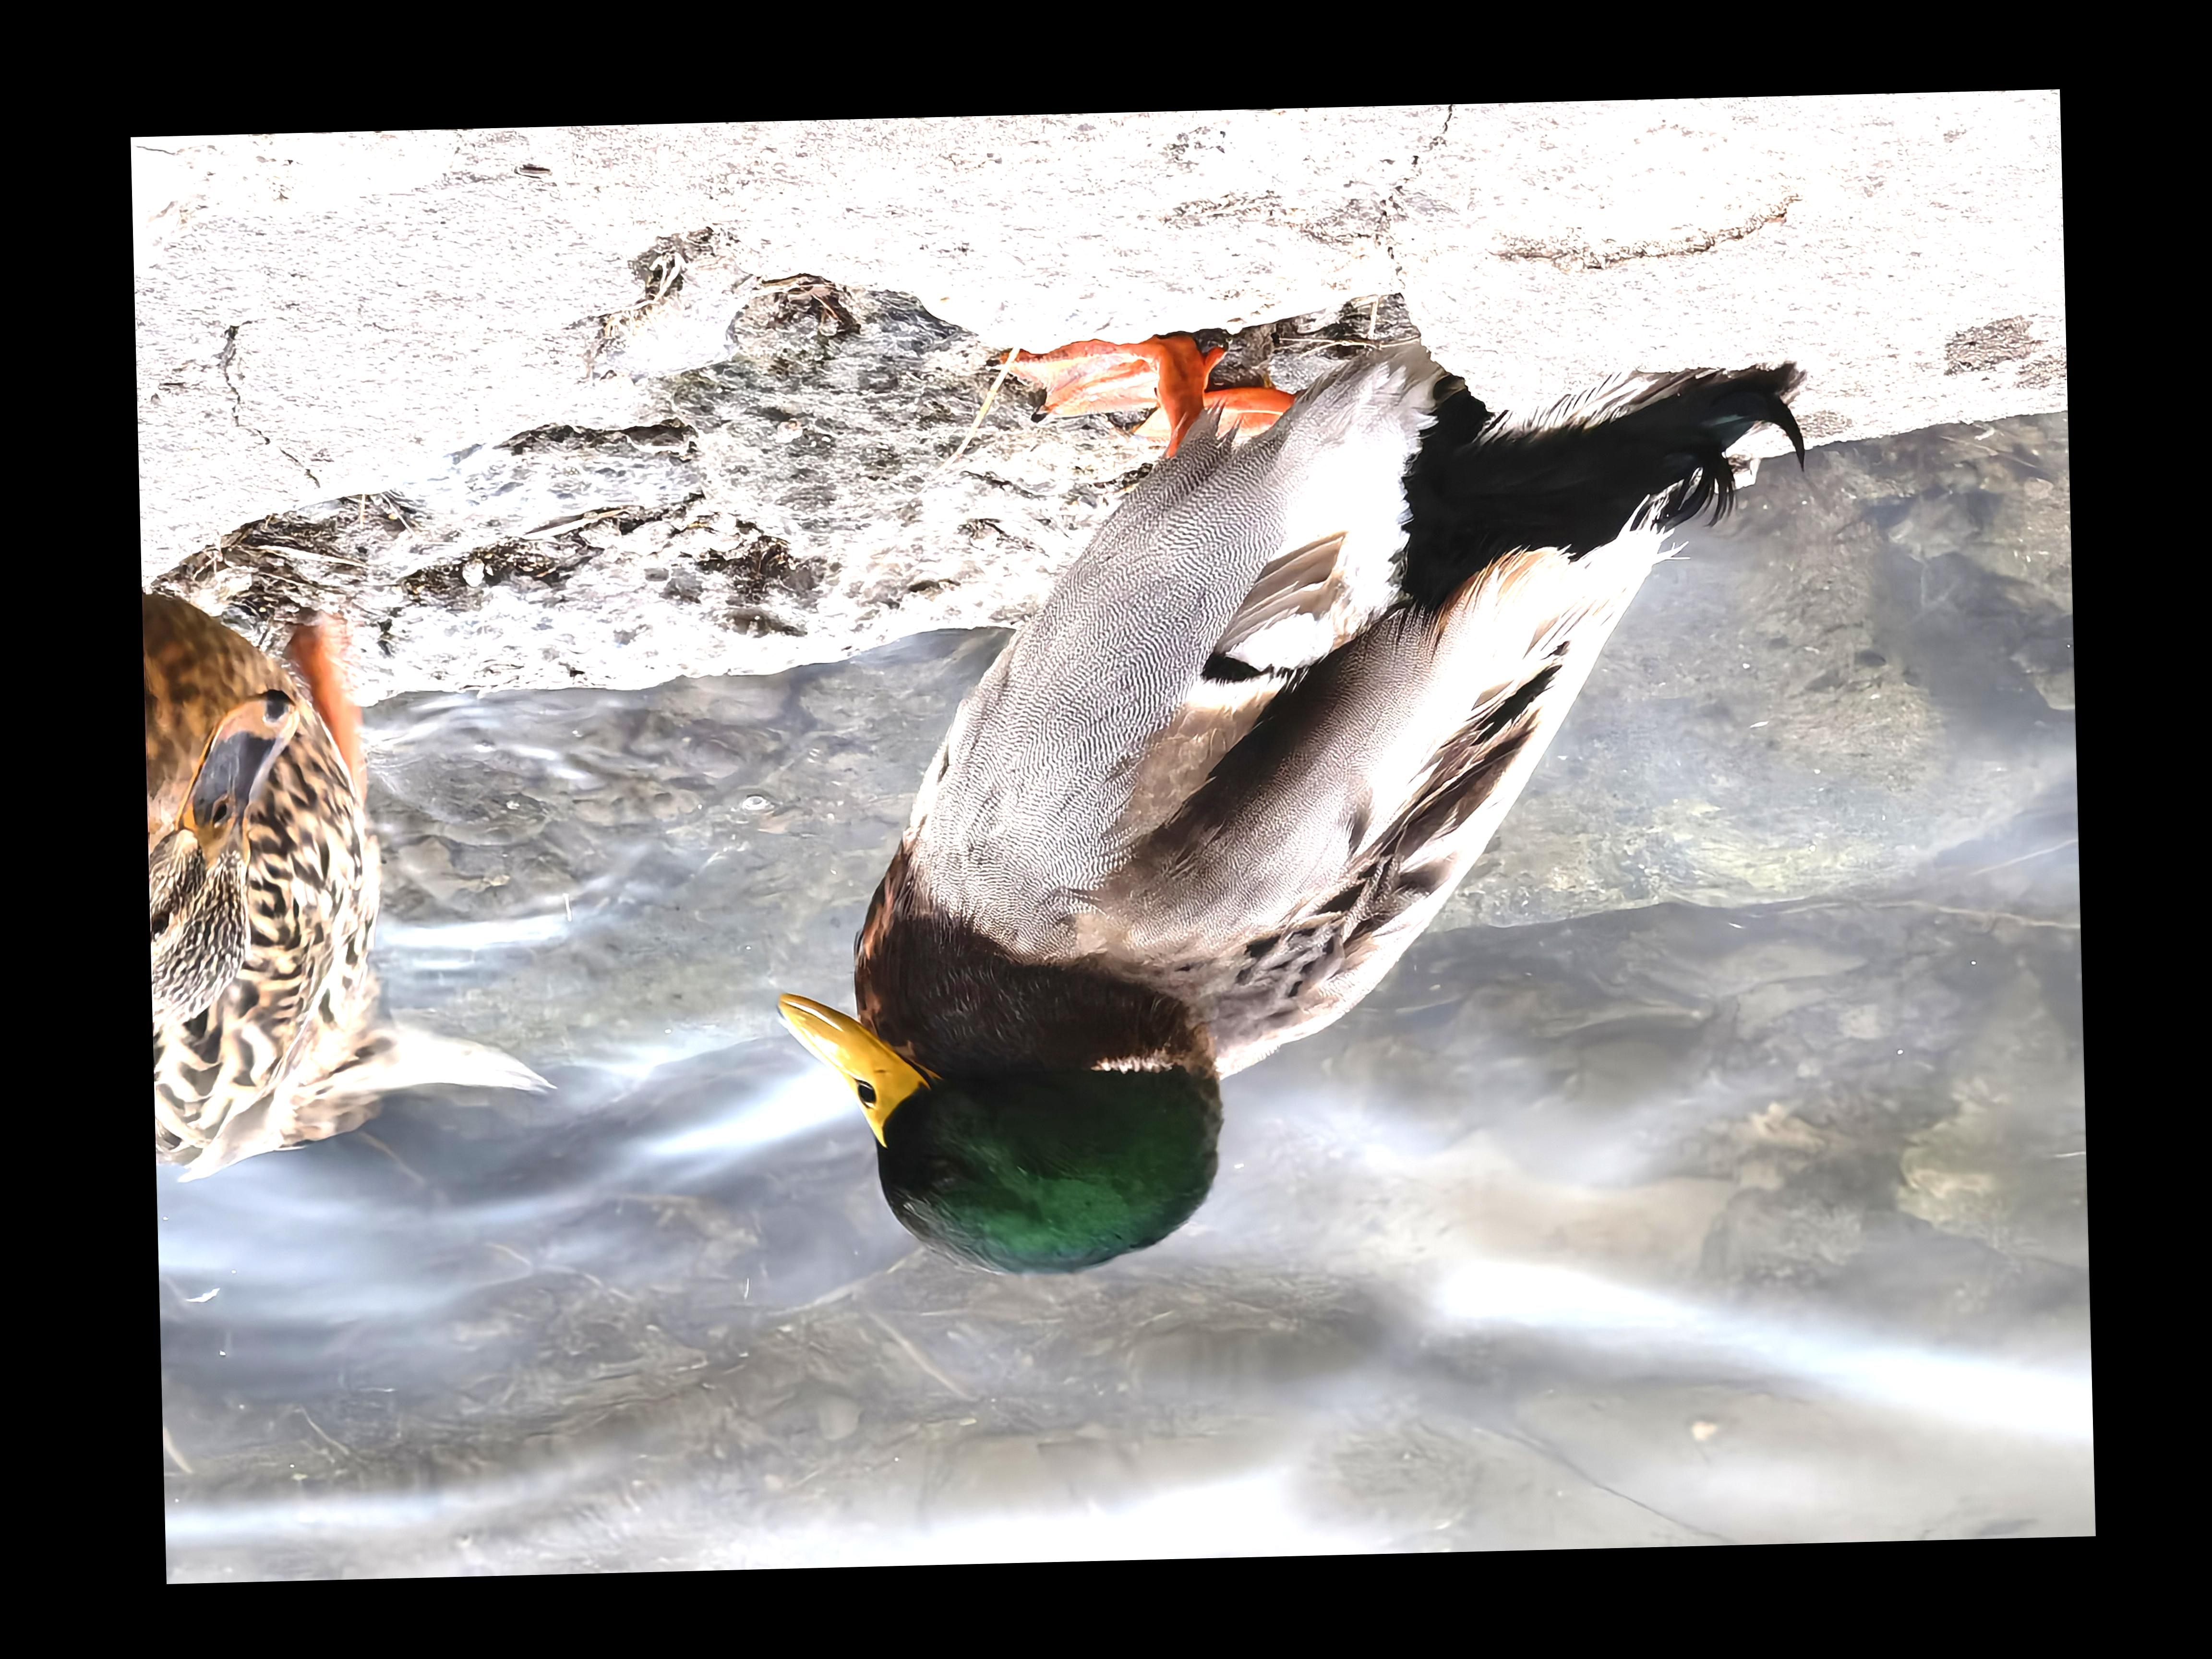duck: (738, 336, 1838, 1340), (141, 582, 543, 1234)
